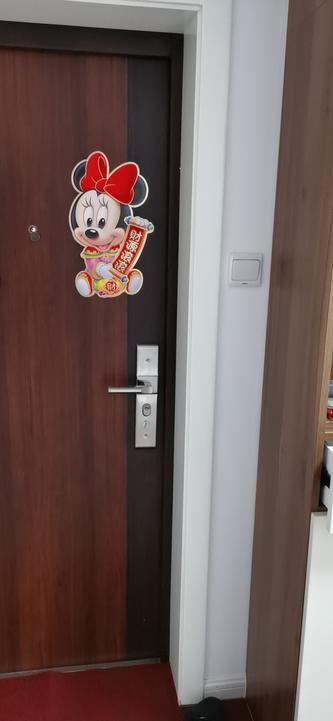switch: (231, 257, 262, 283)
